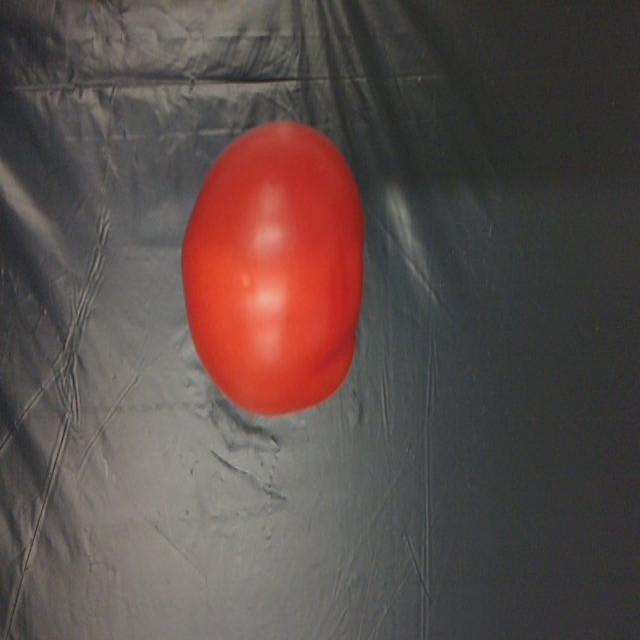kirmizi: (177, 120, 363, 410)
